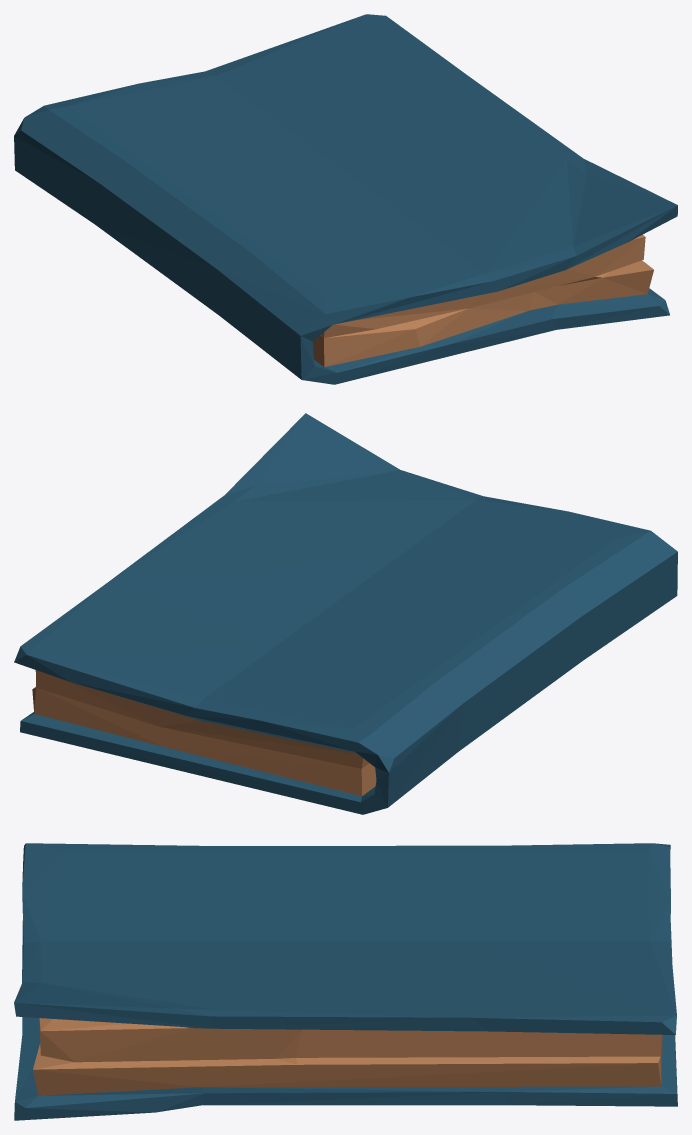
Rendered from MDungeon_Book_03.FBX.
3 renders of one model, top to bottom at view 1: azimuth 30°, elevation 25°; view 2: azimuth 150°, elevation 25°; view 3: azimuth 270°, elevation 25°, orthographic. The views are drawn at different scales.
Parts seen in each view (by area): view 1: MDgn_Book_03_LOD0; view 2: MDgn_Book_03_LOD0; view 3: MDgn_Book_03_LOD0.
Part boxes in pixels (x1,y1,x2,y2): MDgn_Book_03_LOD0: (14, 14, 677, 384); MDgn_Book_03_LOD0: (14, 413, 677, 814); MDgn_Book_03_LOD0: (14, 843, 677, 1120).
Size of what is drawn, in the model's own units: 0.4026 by 0.1116 by 0.5489.
